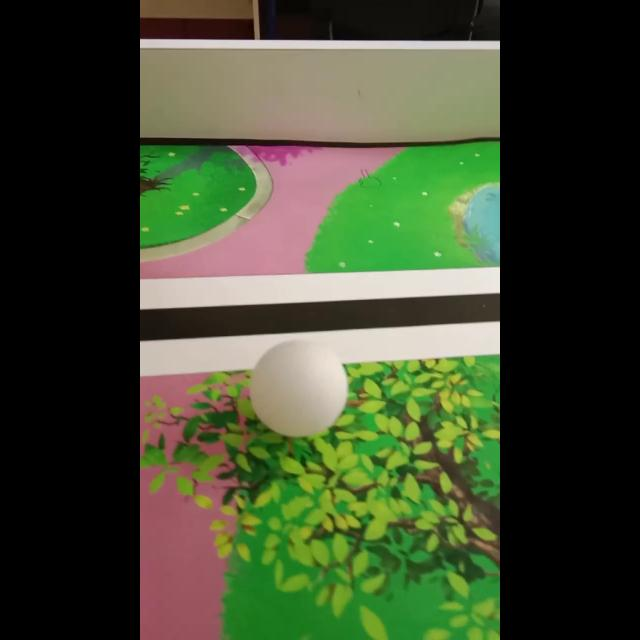white ball: (248, 338, 348, 438)
